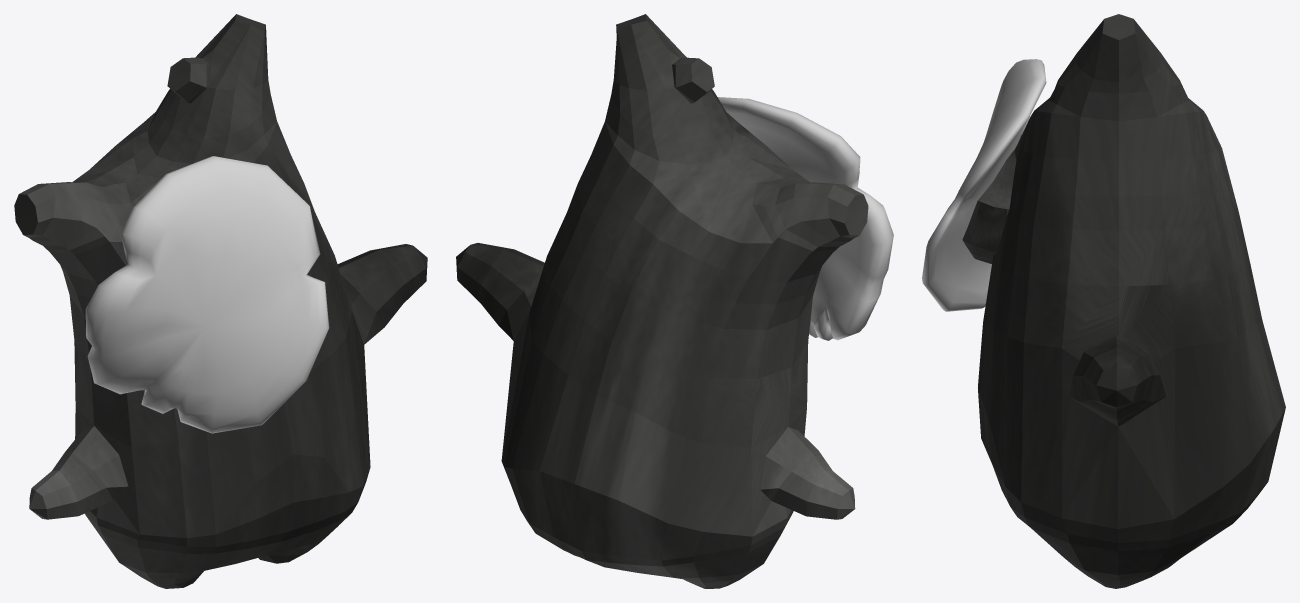
File: frame_0028.obj
The picture shows the model from 3 angles, left to right: view 1: azimuth 30°, elevation 25°; view 2: azimuth 150°, elevation 25°; view 3: azimuth 270°, elevation 25°; orthographic projection.
Parts seen in each view (by area): view 1: korok, leaf; view 2: korok, leaf; view 3: korok, leaf, nose.
Boxes of the visible parts, x1,y1,x2,y2 form: korok: (14,14,427,588); leaf: (85,156,329,433); korok: (456,14,868,588); leaf: (717,97,893,340); korok: (978,14,1285,588); leaf: (922,59,1046,311); nose: (962,134,1021,263).
Size of the model in its own units: 1.77 by 2.3 by 1.38.
